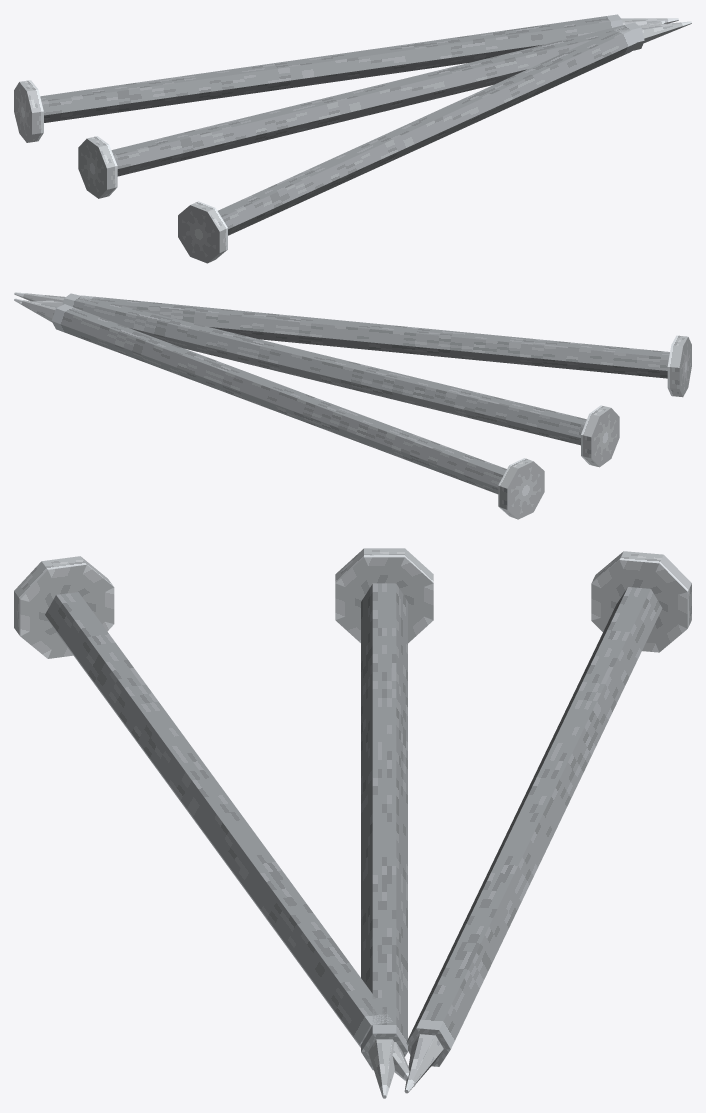
The model's file is nail.glb.
3 renders of one model, top to bottom at view 1: azimuth 30°, elevation 25°; view 2: azimuth 150°, elevation 25°; view 3: azimuth 270°, elevation 25°, orthographic. The views are drawn at different scales.
Visible parts, largest first — view 1: block_shank2, block_shank0, block_shank1, block_head1, block_head0, block_head2, block_point0; view 2: block_shank1, block_shank0, block_shank2, block_head2, block_head0, block_head1, block_point2; view 3: block_shank1, block_shank2, block_shank0, block_head1, block_head2, block_head0, block_point2, block_point0.
Part boxes in pixels (<box>): block_shank2: <box>40,14,622,122</box>; block_shank0: <box>111,22,644,176</box>; block_shank1: <box>218,27,636,235</box>; block_head1: <box>178,201,227,263</box>; block_head0: <box>78,136,117,198</box>; block_head2: <box>14,80,43,142</box>; block_point0: <box>640,21,691,42</box>; block_shank1: <box>79,295,669,378</box>; block_shank0: <box>62,293,586,445</box>; block_shank2: <box>51,304,506,494</box>; block_head2: <box>498,458,544,519</box>; block_head0: <box>581,405,619,467</box>; block_head1: <box>667,335,691,397</box>; block_point2: <box>14,298,57,322</box>; block_shank1: <box>45,592,392,1047</box>; block_shank2: <box>406,587,662,1066</box>; block_shank0: <box>361,583,407,1070</box>; block_head1: <box>14,556,114,658</box>; block_head2: <box>591,551,691,652</box>; block_head0: <box>335,548,433,643</box>; block_point2: <box>404,1034,443,1093</box>; block_point0: <box>368,1039,394,1098</box>.
Bounding box in the file's own units: 0.112 × 0.00924 × 0.0636.
1 material, 1 textured.
